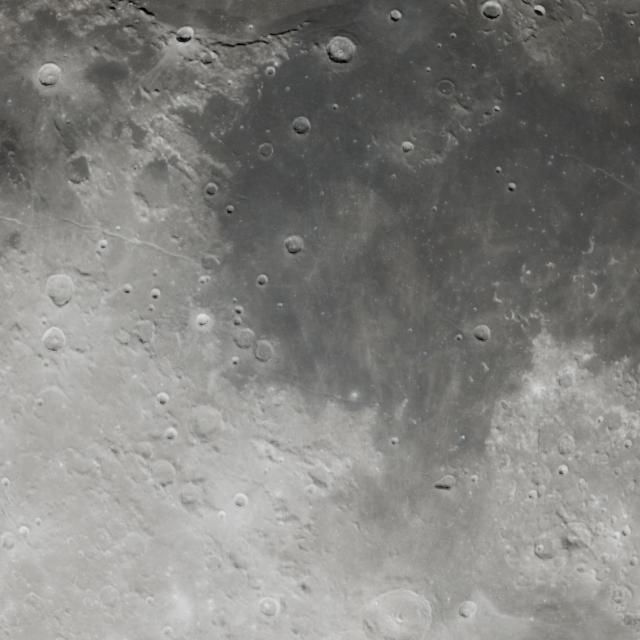crater: (325, 34, 357, 68), (282, 233, 306, 259), (38, 64, 62, 89), (478, 1, 506, 22), (172, 25, 196, 46), (290, 118, 312, 134), (474, 326, 489, 345), (532, 4, 548, 18), (387, 10, 402, 24)
